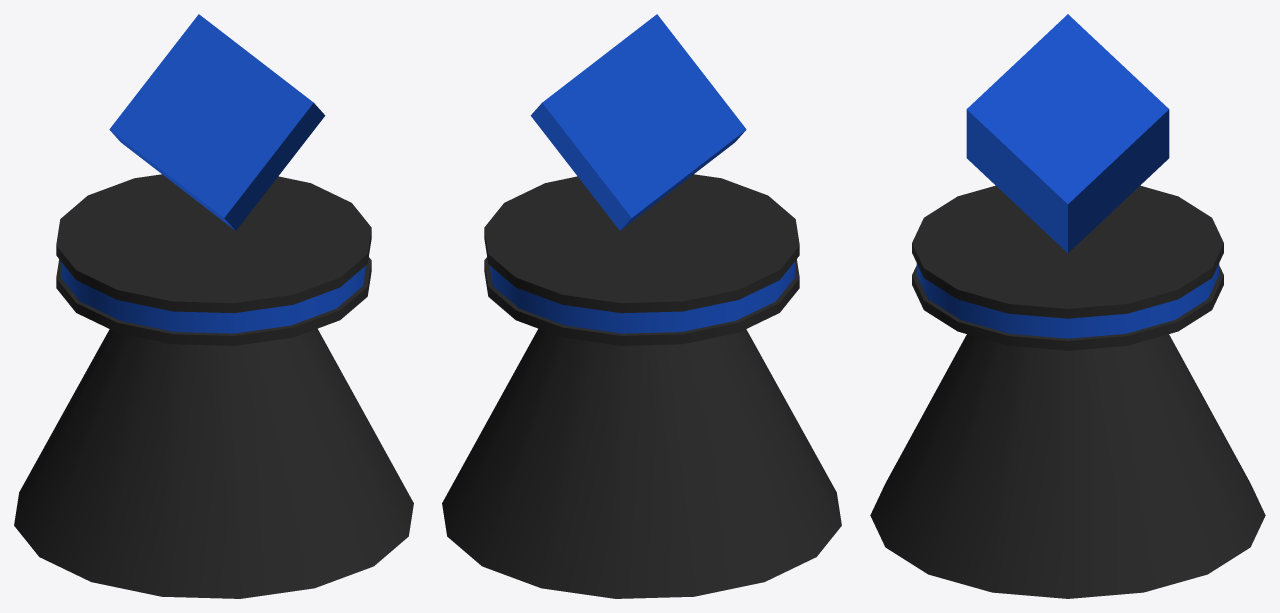
Rendered from playerPieceBlue.fbx.
3 views of the same model, side by side, from view 1: azimuth 30°, elevation 25°; view 2: azimuth 150°, elevation 25°; view 3: azimuth 270°, elevation 25° (orthographic). The views are drawn at different scales.
Visible parts, largest first — view 1: playerPieceBlue; view 2: playerPieceBlue; view 3: playerPieceBlue.
Boxes of the visible parts, <box> form: playerPieceBlue: <box>14,14,413,598</box>; playerPieceBlue: <box>442,14,841,598</box>; playerPieceBlue: <box>870,14,1265,598</box>.
Size of the model in its own units: 137 by 189 by 137.
